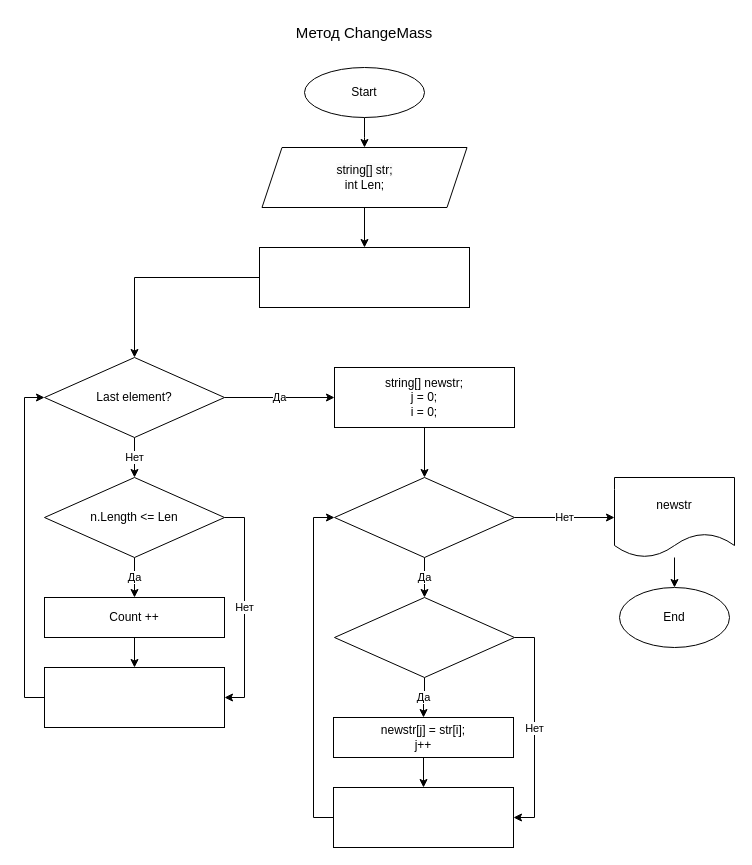
This 752x865 diagram has some shape labels left out. Here are the shapes that lost their labels. From the top down, the box of each, then its label:
(258, 246, 470, 308): int Count; var n;
(334, 476, 514, 558): i < str.Length
(334, 596, 514, 678): str[i].Length <= Len
(44, 666, 224, 728): n ++
(332, 786, 514, 848): i ++
